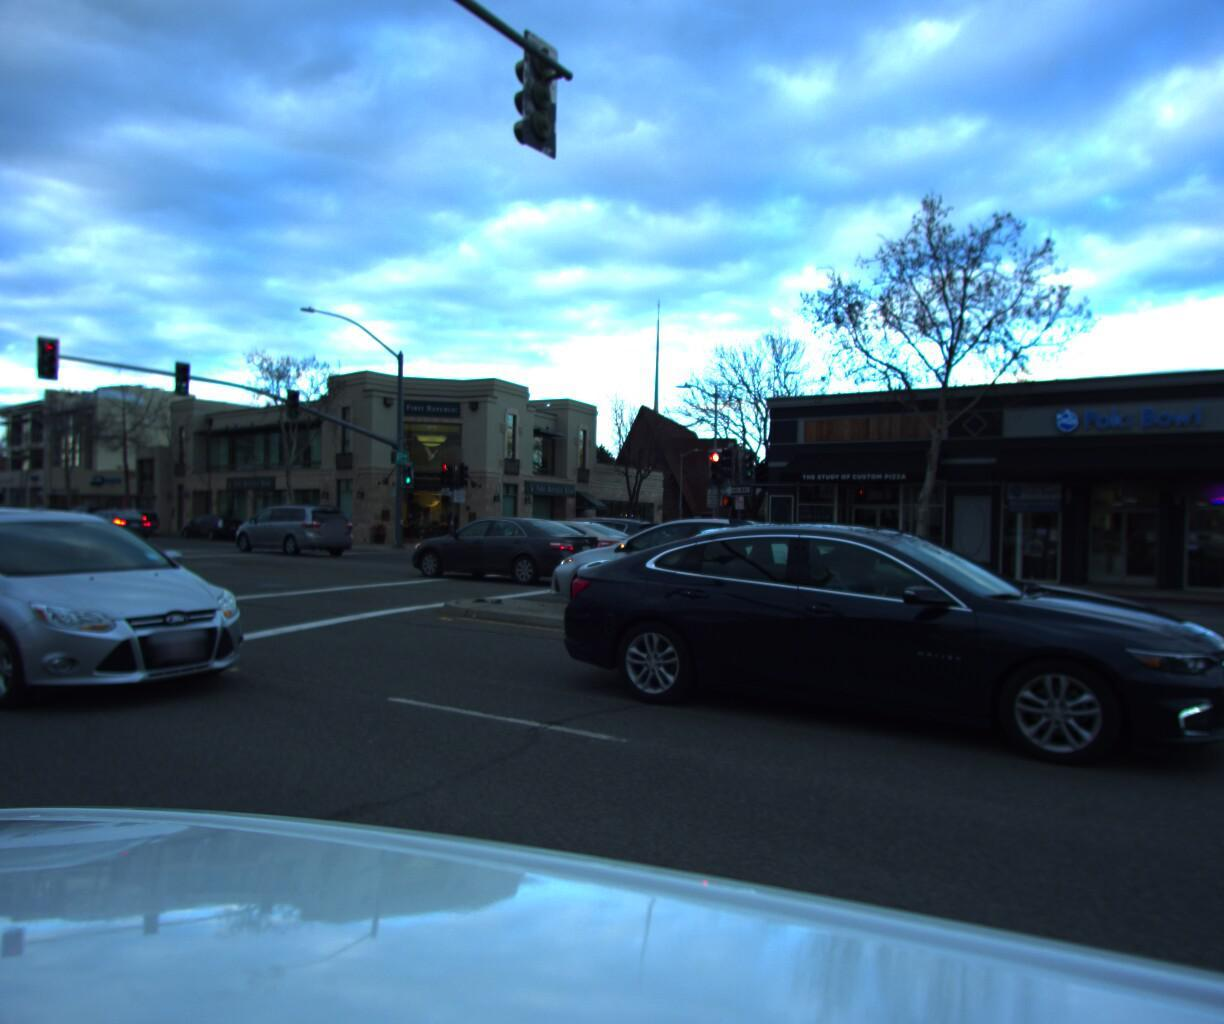car: (538, 506, 1224, 792), (521, 508, 869, 637), (394, 509, 614, 589), (477, 513, 658, 580), (525, 508, 677, 569), (227, 499, 361, 556), (534, 507, 622, 554), (65, 505, 156, 538), (170, 508, 249, 540), (94, 501, 160, 533), (18, 498, 71, 524)
